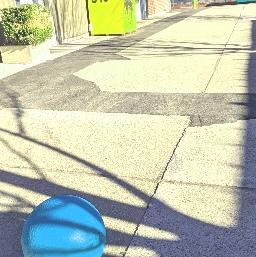algae: (18, 191, 108, 257)
